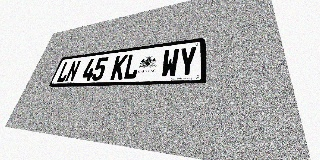4: (80, 58, 98, 81)
5: (91, 57, 109, 81)
K: (110, 54, 128, 80)
L: (122, 53, 141, 79), (56, 61, 73, 82)
N: (64, 60, 81, 82)
W: (160, 48, 179, 78)
Y: (178, 46, 197, 77)
